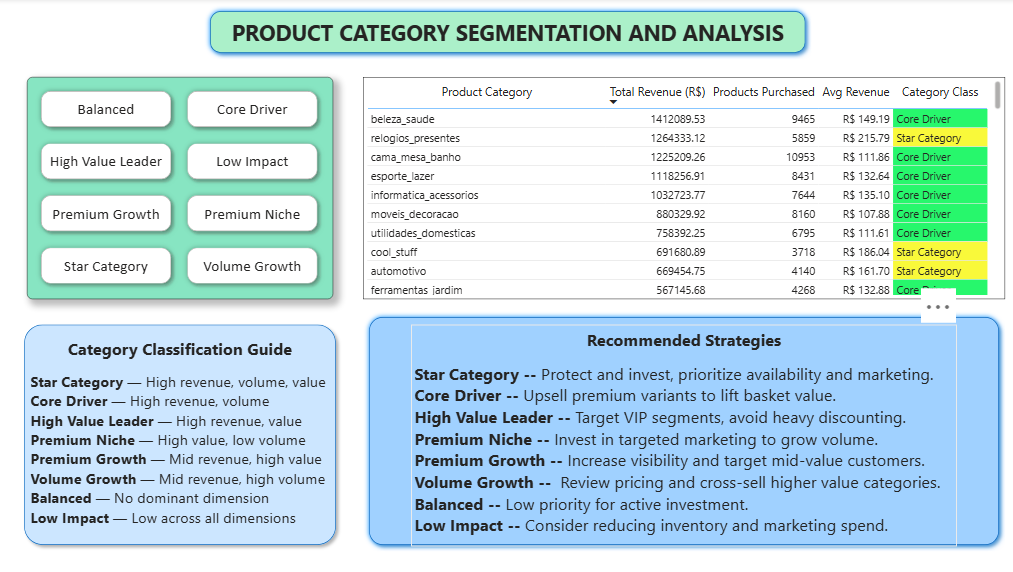

This screenshot's page, from the dashboard's own definition file:
{"tool":"powerbi","page":{"name":"Product Analysis","canvas":[1500,850],"ordinal":1},"visuals":[{"type":"tableEx","fields":{"Values":["Product Category Segmentation.product_category","Sum(Product Category Segmentation.total_revenue)","Sum(Product Category Segmentation.total_item_purchases)","Sum(Product Category Segmentation.avg_revenue_per_item)","Product Category Segmentation.category_segmented"]},"box":[535.9,115.2,947.8,327.8],"z":0},{"type":"shape","box":[301.2,8.9,896.9,79.7],"z":1000},{"type":"textbox","box":[301.2,22.1,896.9,66.4],"z":2000},{"type":"advancedSlicerVisual","fields":{"Values":["Product Category Segmentation.category_segmented"]},"box":[39.9,115.2,451.8,327.8],"z":3000},{"type":"shape","box":[26.6,471.7,478.4,343.3],"z":4000},{"type":"textbox","box":[39.9,493.9,451.8,301.2],"z":5000},{"type":"shape","box":[535.9,460.6,947.8,354.3],"z":6000},{"type":"textbox","box":[606.8,480.6,806.1,327.8],"z":7000}]}

Visuals, with their boxes in screenshot pixels (x1, y1, x2, y2), scaled from the page's 1500x850 canvas onto the 1013x572 screenshot:
tableEx - Product Category Segmentation.product_category x Sum(Product Category Segmentation.total_revenue): x1=362 y1=78 x2=1002 y2=298
shape: x1=203 y1=6 x2=809 y2=60
textbox: x1=203 y1=15 x2=809 y2=60
advancedSlicerVisual - Product Category Segmentation.category_segmented: x1=27 y1=78 x2=332 y2=298
shape: x1=18 y1=317 x2=341 y2=548
textbox: x1=27 y1=332 x2=332 y2=535
shape: x1=362 y1=310 x2=1002 y2=548
textbox: x1=410 y1=323 x2=954 y2=544
